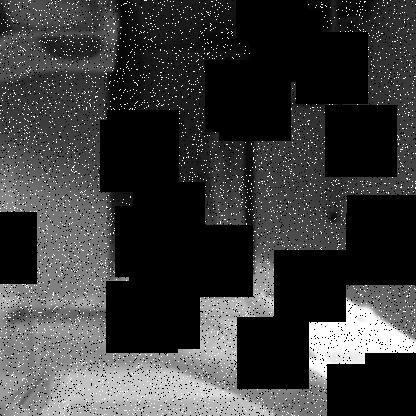Porte: (107, 0, 256, 281)
